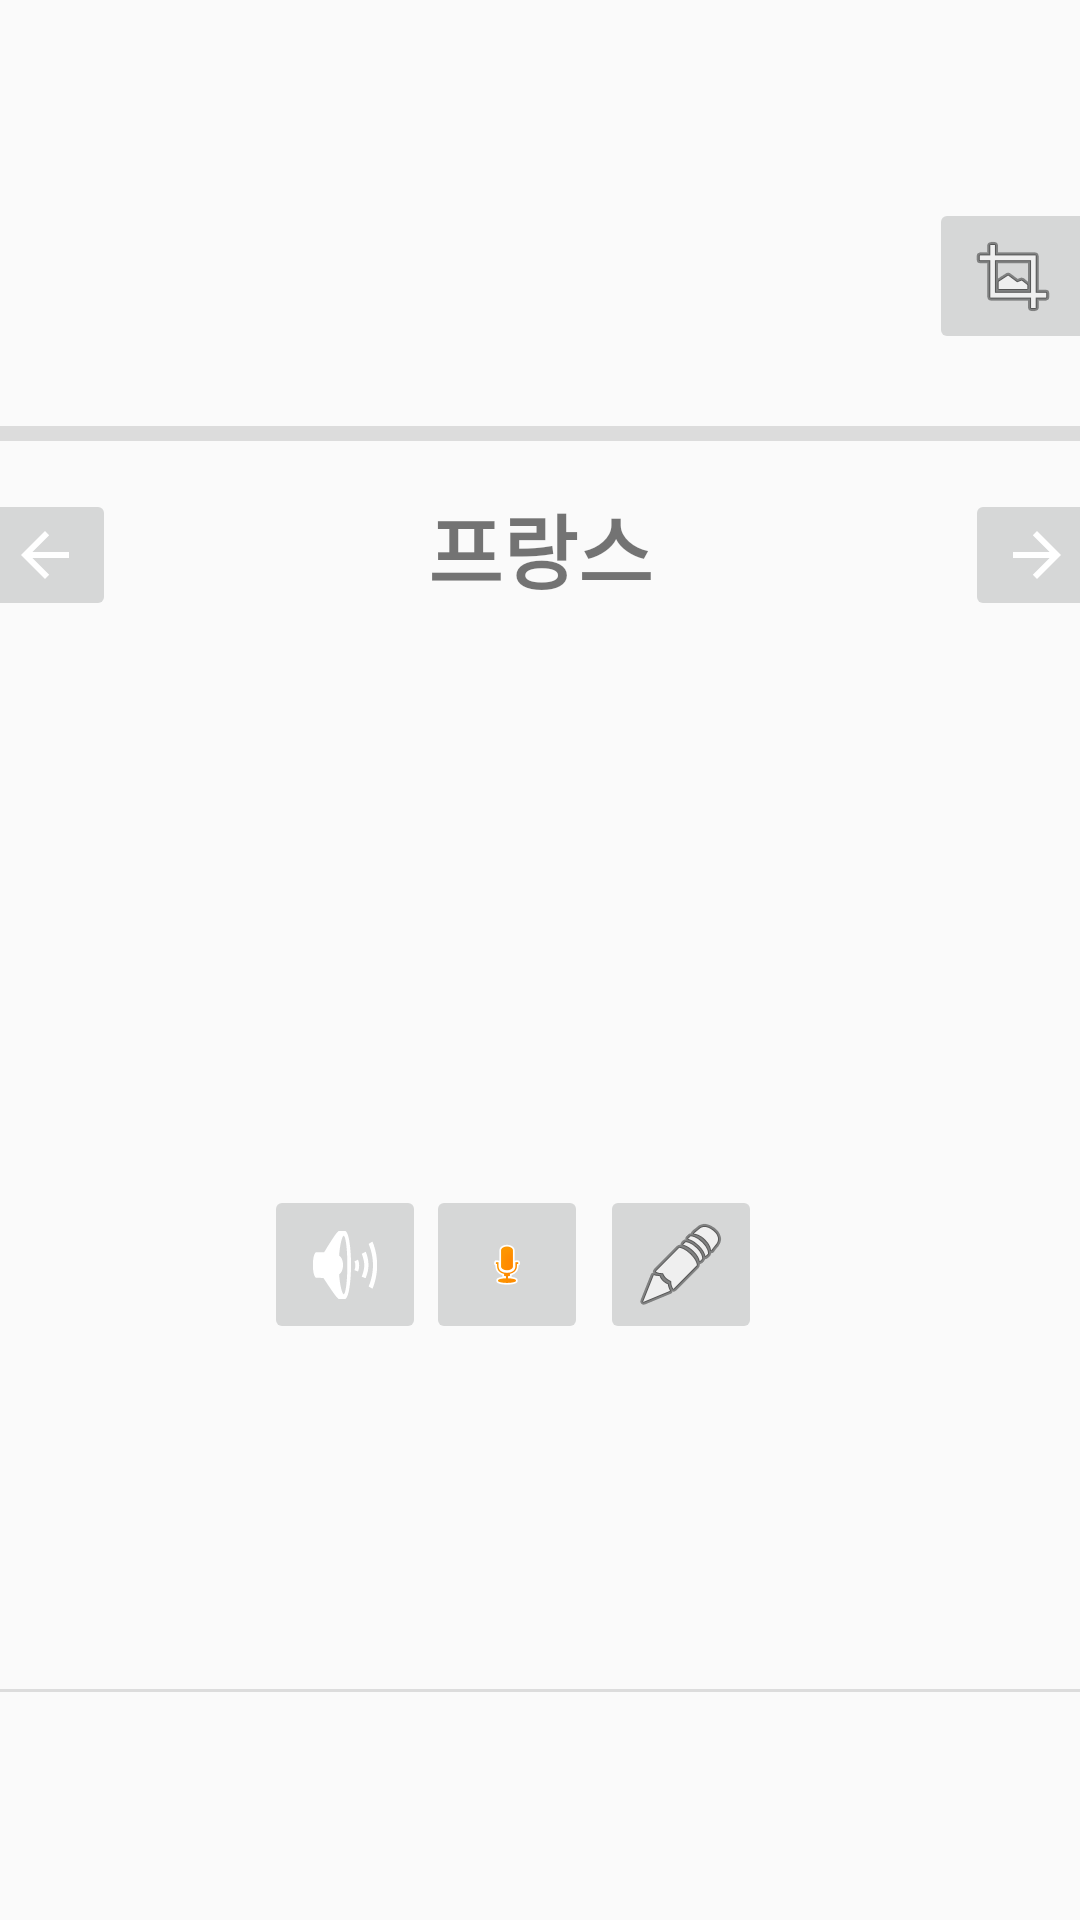

Where icons sit on this 1080*1920 app screen, as (x1, y1, x2, y2):
edit: (612, 1203, 750, 1326)
lock silent mode off: (276, 1203, 414, 1326)
presence audio away: (438, 1203, 576, 1326)
